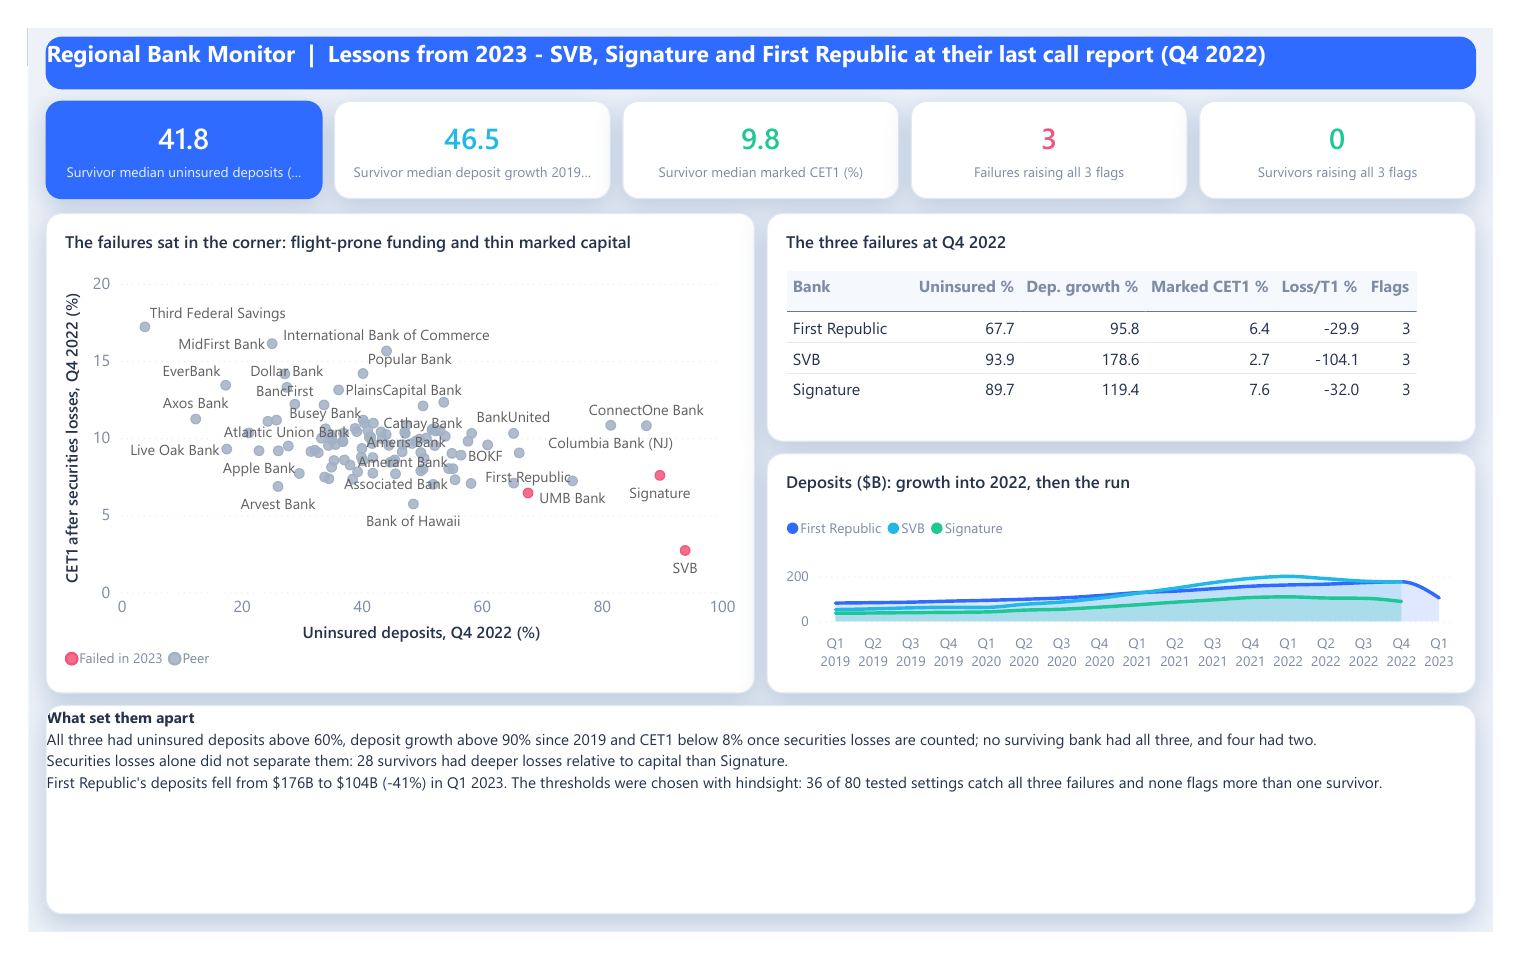

This screenshot's page, from the dashboard's own definition file:
{"tool":"powerbi","page":{"name":"Lessons from 2023","canvas":[1280,790],"ordinal":3},"visuals":[{"type":"textbox","box":[15,8,1250,46],"z":1000},{"type":"card","fields":{"Values":["_Measures.Survivor Median Uninsured at Q4 2022 %"]},"box":[15,64,242,86],"z":2000},{"type":"card","fields":{"Values":["_Measures.Survivor Median Deposit Growth 2019-22 %"]},"box":[267,64,242,86],"z":3000},{"type":"card","fields":{"Values":["_Measures.Survivor Median Marked CET1 at Q4 2022 %"]},"box":[519,64,242,86],"z":4000},{"type":"card","fields":{"Values":["_Measures.Failed Banks Raising All 3"]},"box":[771,64,242,86],"z":5000},{"type":"card","fields":{"Values":["_Measures.Survivors Raising All 3"]},"box":[1023,64,242,86],"z":6000},{"type":"scatterChart","title":"The failures sat in the corner: flight-prone funding and thin marked capital","fields":{"Category":["Banks.bank"],"Series":["Banks.status"],"X":["_Measures.Uninsured at Q4 2022 %"],"Y":["_Measures.Marked CET1 at Q4 2022 %"]},"box":[15,162,620,420],"z":7000},{"type":"tableEx","title":"The three failures at Q4 2022","fields":{"Values":["Banks.bank","_Measures.Uninsured at Q4 2022 %","_Measures.Deposit Growth 2019-22 %","_Measures.Marked CET1 at Q4 2022 %","_Measures.Unrealized Loss / Tier 1 at Q4 2022 %","_Measures.Early-Warning Flags"]},"box":[645,162,620,200],"z":8000},{"type":"areaChart","title":"Deposits ($B): growth into 2022, then the run","fields":{"Category":["Quarters.quarter"],"Series":["Banks.bank"],"Y":["_Measures.Deposits by Quarter $B"]},"box":[645,372,620,210],"z":9000},{"type":"textbox","box":[15,592,1250,183],"z":10000}]}

Visuals, with their boxes in screenshot pixels (x1, y1, x2, y2), scaled from the page's 1280x790 canvas onto the 1522x960 screenshot:
textbox: pyautogui.locateOnScreen(18, 10, 1504, 66)
card - _Measures.Survivor Median Uninsured at Q4 2022 %: pyautogui.locateOnScreen(18, 78, 306, 182)
card - _Measures.Survivor Median Deposit Growth 2019-22 %: pyautogui.locateOnScreen(317, 78, 605, 182)
card - _Measures.Survivor Median Marked CET1 at Q4 2022 %: pyautogui.locateOnScreen(617, 78, 905, 182)
card - _Measures.Failed Banks Raising All 3: pyautogui.locateOnScreen(917, 78, 1205, 182)
card - _Measures.Survivors Raising All 3: pyautogui.locateOnScreen(1216, 78, 1504, 182)
"The failures sat in the corner: flight-prone funding and thin marked capital" scatterChart: pyautogui.locateOnScreen(18, 197, 755, 707)
"The three failures at Q4 2022" tableEx: pyautogui.locateOnScreen(767, 197, 1504, 440)
"Deposits ($B): growth into 2022, then the run" areaChart: pyautogui.locateOnScreen(767, 452, 1504, 707)
textbox: pyautogui.locateOnScreen(18, 719, 1504, 942)
